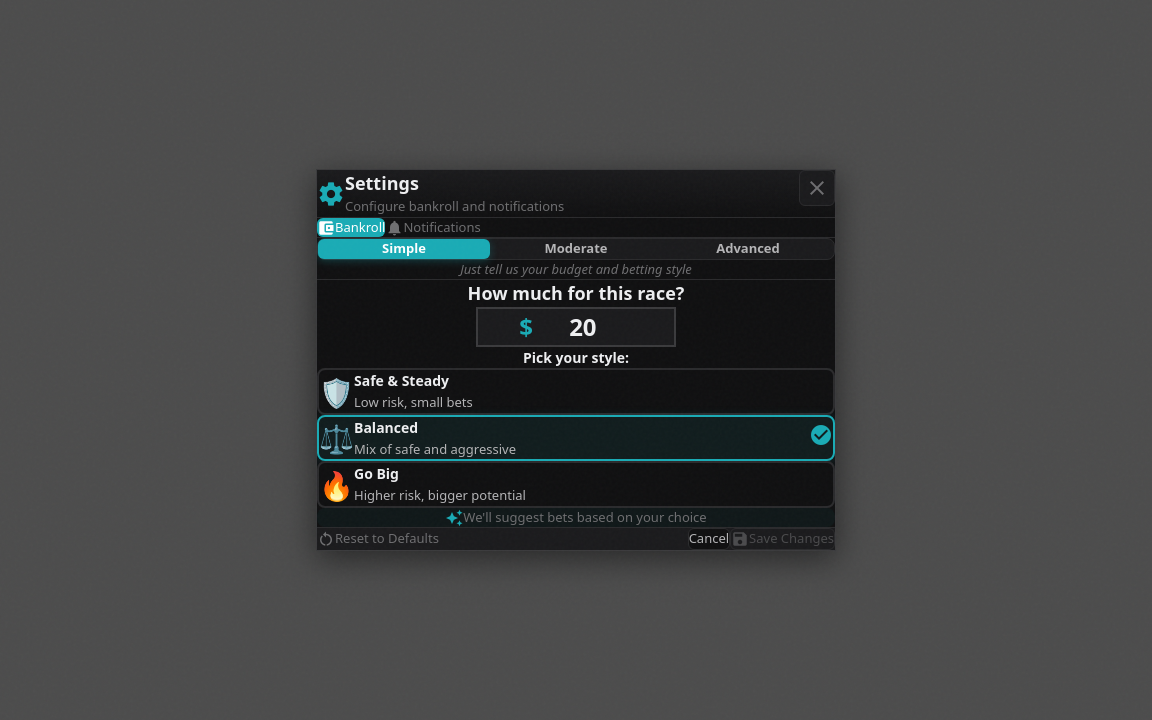
BankrollSettings › Tab Navigation › switches to notifications tab
Click the text "Notifications": [442, 228] box x1=403 y1=218 x2=481 y2=237
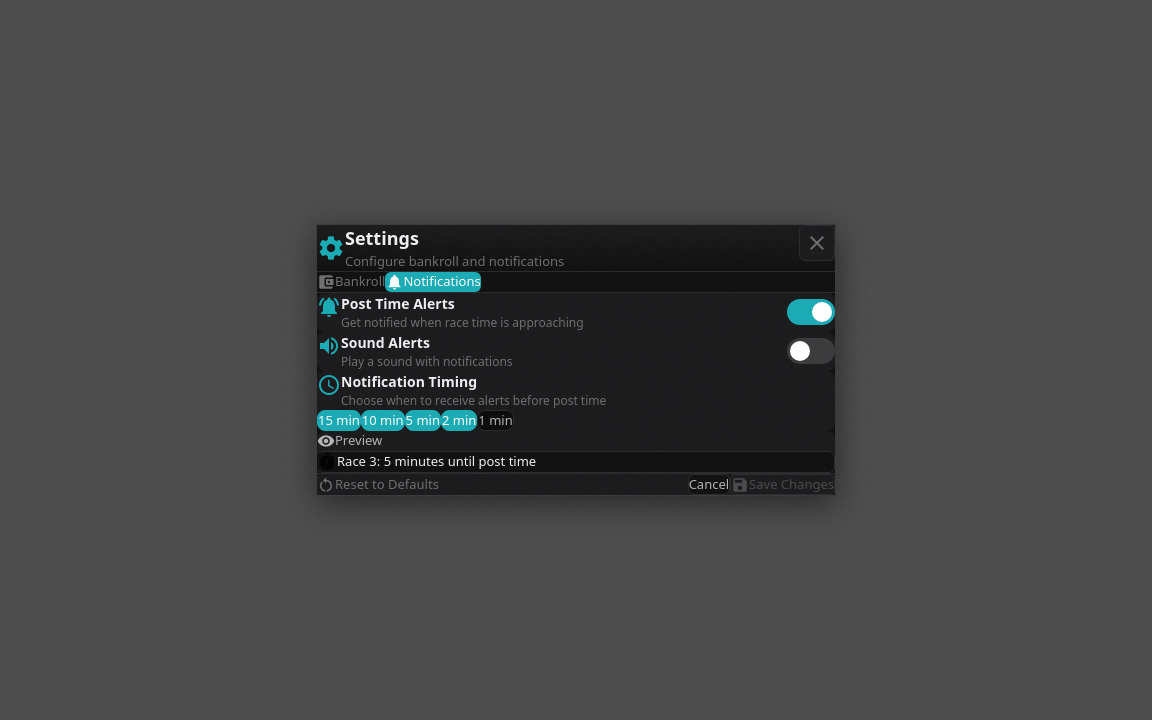
Result: the text "Post Time Alerts" is shown at x1=341 y1=294 x2=455 y2=313
Result: the text "Sound Alerts" is shown at x1=341 y1=333 x2=430 y2=352
